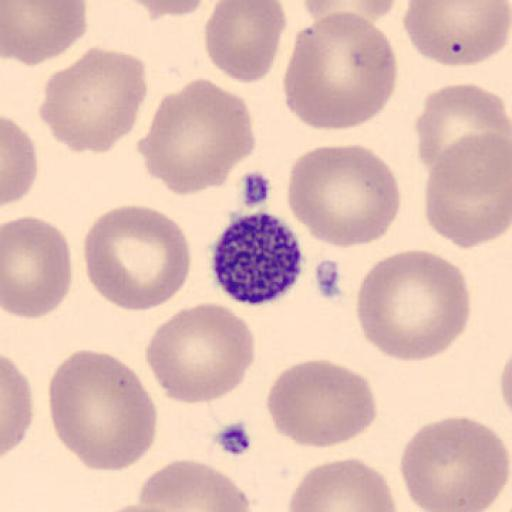Platelet: (205, 208, 308, 307)
RBC: (282, 10, 400, 131), (138, 77, 256, 197), (48, 347, 158, 474), (354, 248, 472, 363), (286, 142, 402, 250), (82, 203, 192, 313), (144, 300, 257, 406), (38, 46, 148, 154), (398, 413, 511, 512), (423, 129, 511, 249), (264, 358, 378, 450), (415, 81, 511, 180), (402, 0, 512, 69), (2, 214, 72, 320), (203, 0, 288, 85), (286, 455, 399, 512), (134, 458, 252, 512), (2, 1, 88, 67), (300, 0, 400, 34), (2, 114, 38, 208), (2, 355, 34, 459), (301, 0, 402, 23), (128, 0, 219, 20), (91, 503, 212, 512), (355, 0, 399, 21), (98, 502, 189, 512), (499, 345, 512, 415)
